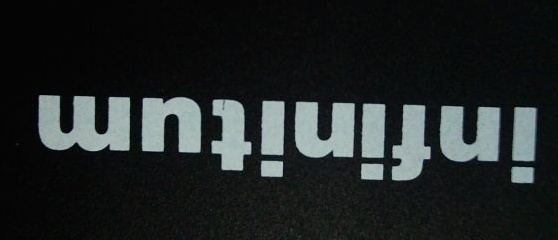BK_infinitum: (34, 85, 541, 192)
